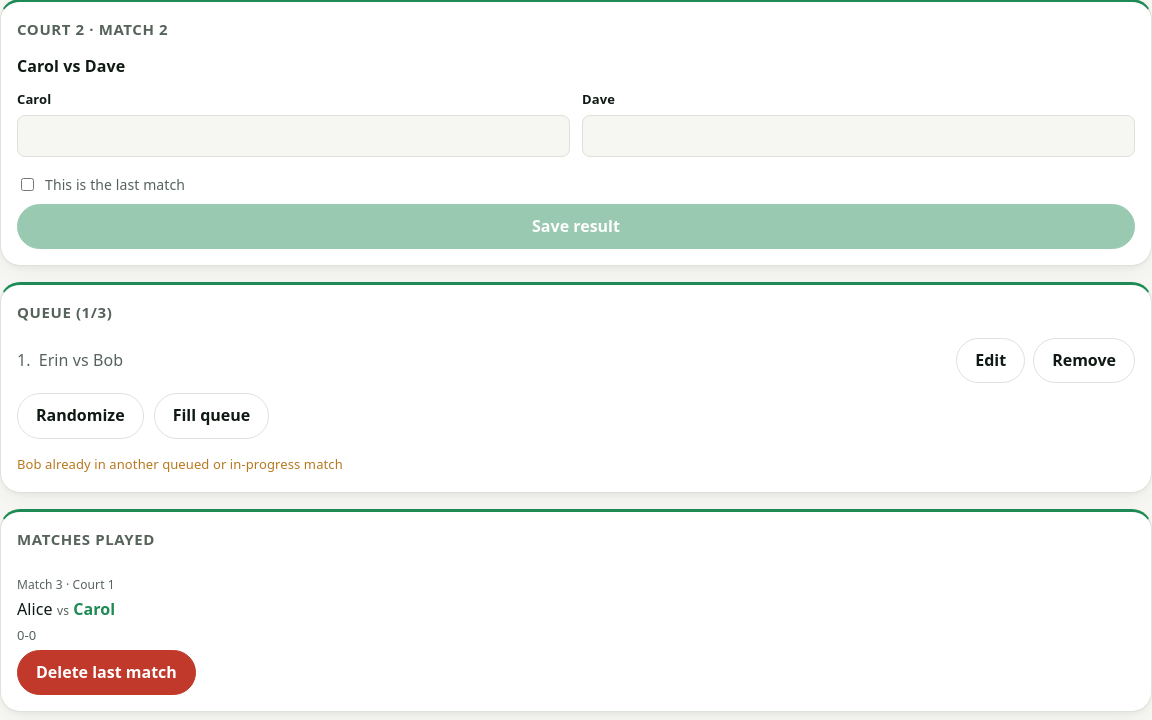
Test case: TournamentDetail: Queue entry inline edit › lists every participant’s games played, fewest first, with +1 for each in-progress match on ANY court
(page scrolled)
Click the button with aria-label "Edit 1. Erin vs Bob": (991, 361) [956, 338, 1025, 383]
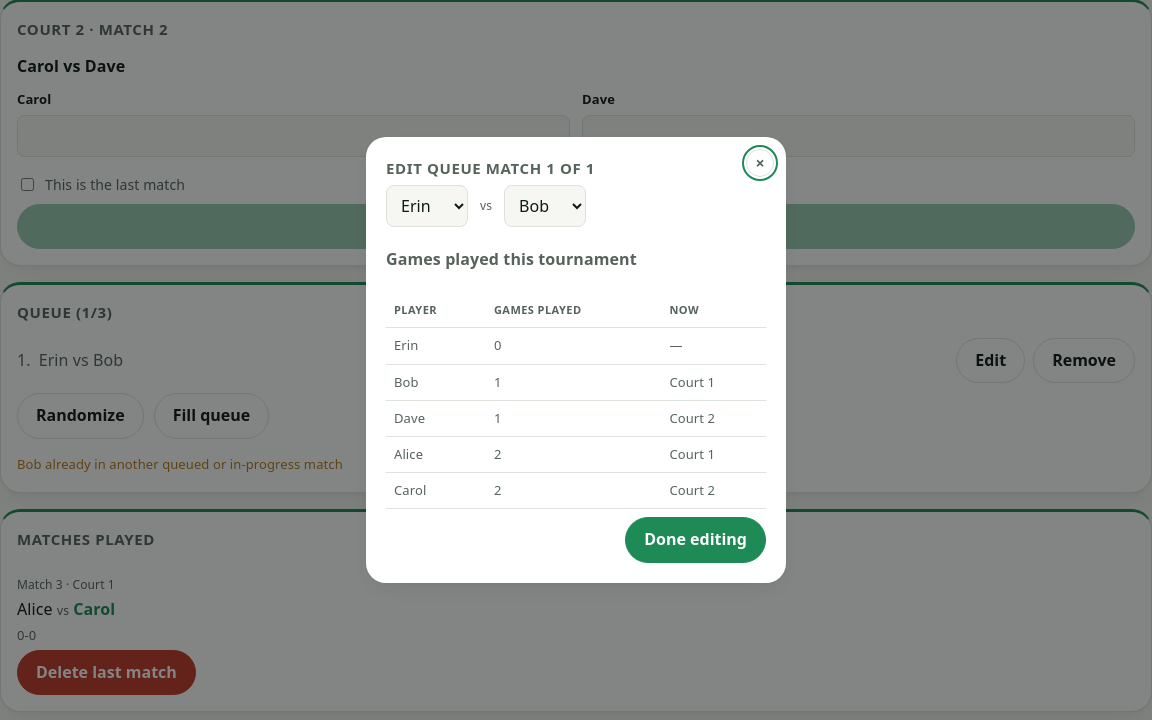
Result: the heading "Edit queue match 1 of 1" is shown at [386, 158, 595, 178]
